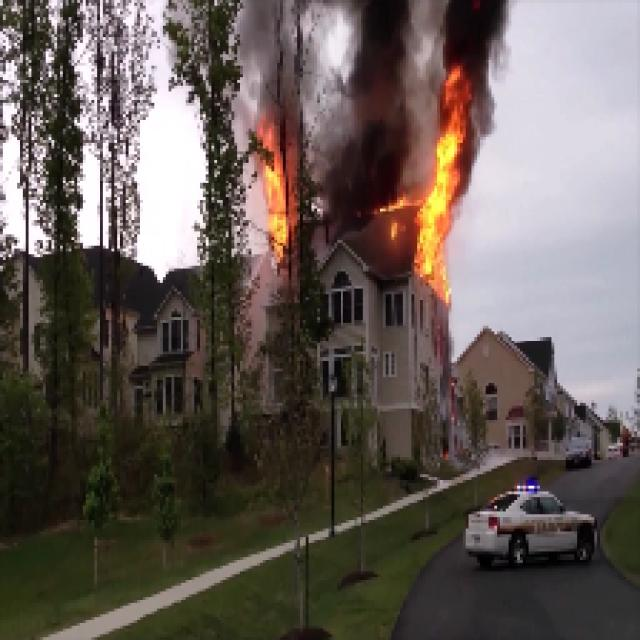fire: (414, 68, 470, 306), (254, 117, 298, 272)
smoke: (241, 1, 516, 64), (306, 67, 406, 192)
